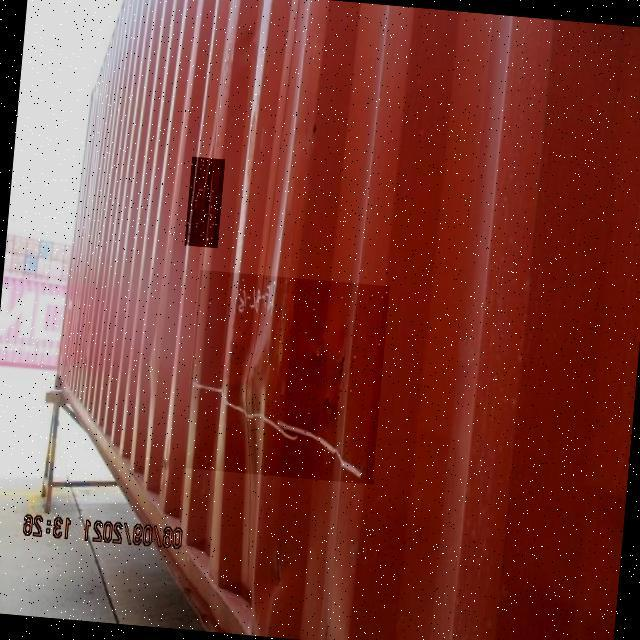Dent: (183, 269, 390, 484)
Minor-Dent: (184, 156, 225, 248)
